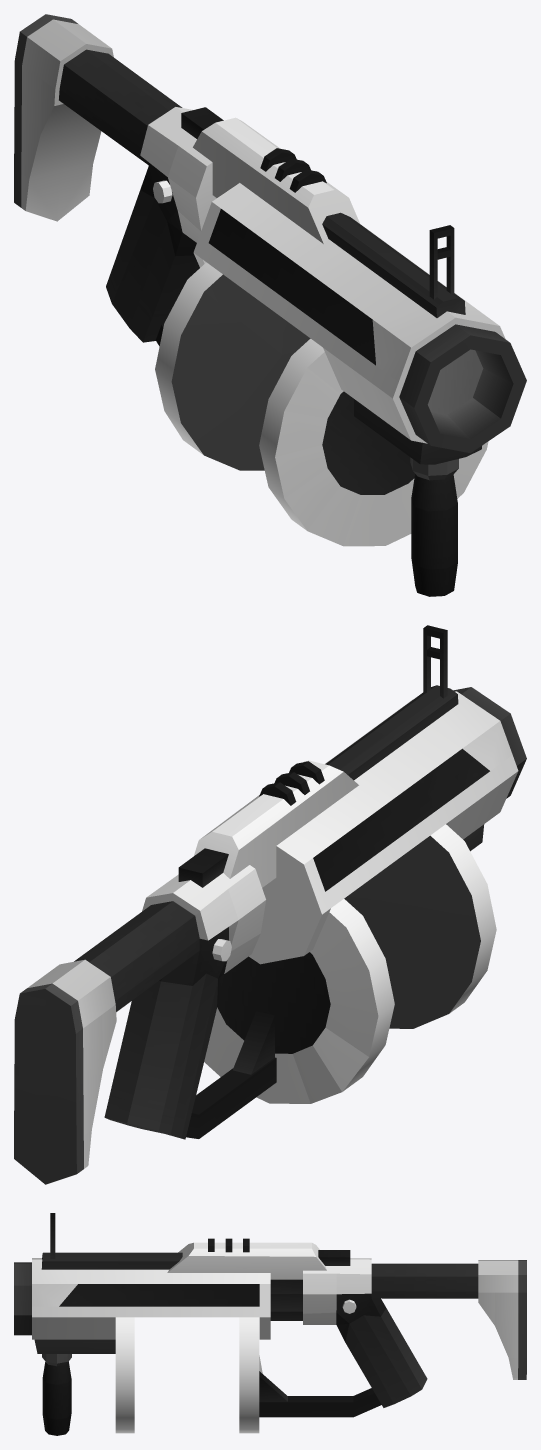
File: GLBody_mesh.fbx
3 views of the same model, one above another, from view 1: azimuth 30°, elevation 25°; view 2: azimuth 150°, elevation 25°; view 3: azimuth 270°, elevation 25° (orthographic). The views are drawn at different scales.
Visible parts, largest first — view 1: GLBody_mesh; view 2: GLBody_mesh; view 3: GLBody_mesh.
Boxes of the visible parts, <box> form: GLBody_mesh: <box>14,14,526,596</box>; GLBody_mesh: <box>14,625,526,1184</box>; GLBody_mesh: <box>14,1213,526,1435</box>.
Size of the model in its own units: 17.54 by 27.35 by 58.86.
